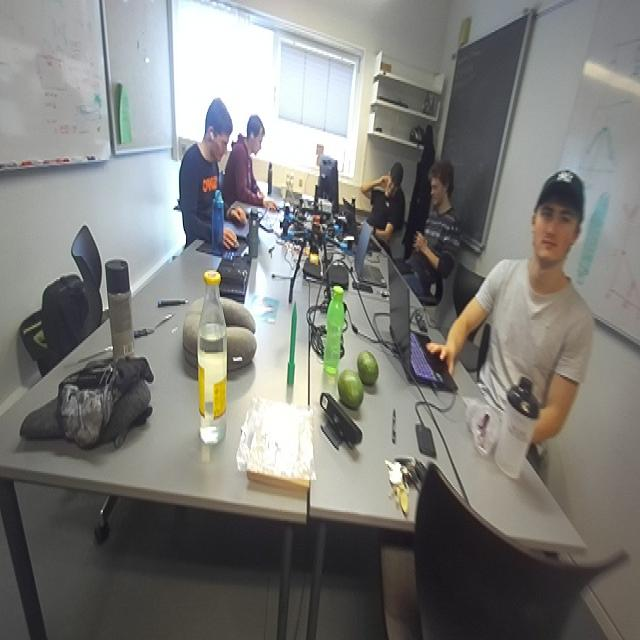probe: (288, 302, 294, 384)
